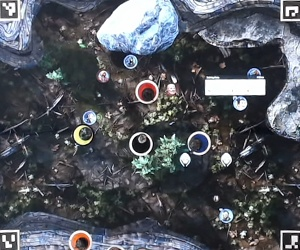black: (129, 132, 152, 155)
blue: (188, 130, 211, 153)
lime_green_violet: (68, 123, 91, 146)
orange: (67, 227, 95, 249)
red: (134, 81, 157, 104)
